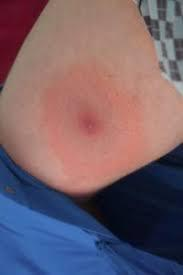Tick: (50, 85, 130, 168)
